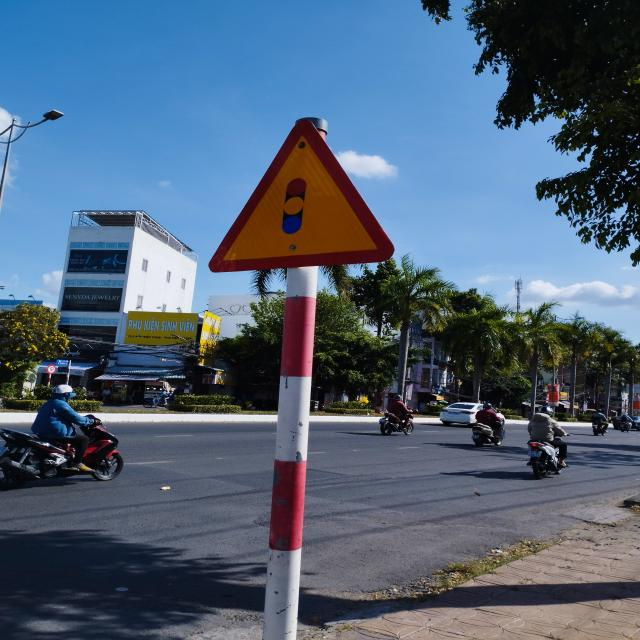Duong_Co_Go_Giam_Toc: (208, 118, 397, 274)
